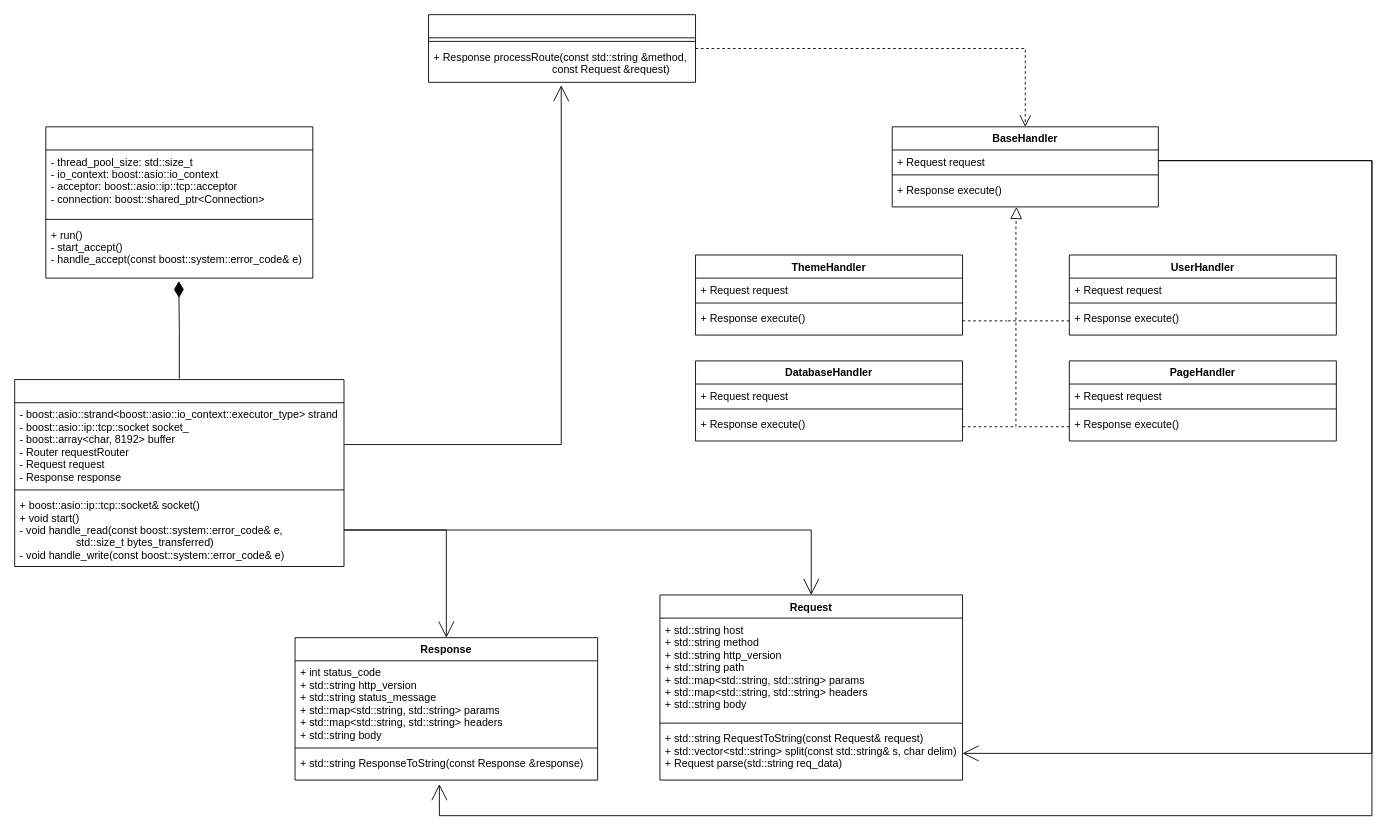
The diagram is 1387 pixels wide and 830 high, and some of its shapes have lost their labels. Each missing label, with the box of its shape:
Connection: (14, 379, 344, 566)
Router: (428, 14, 696, 82)
Server: (45, 126, 313, 278)
